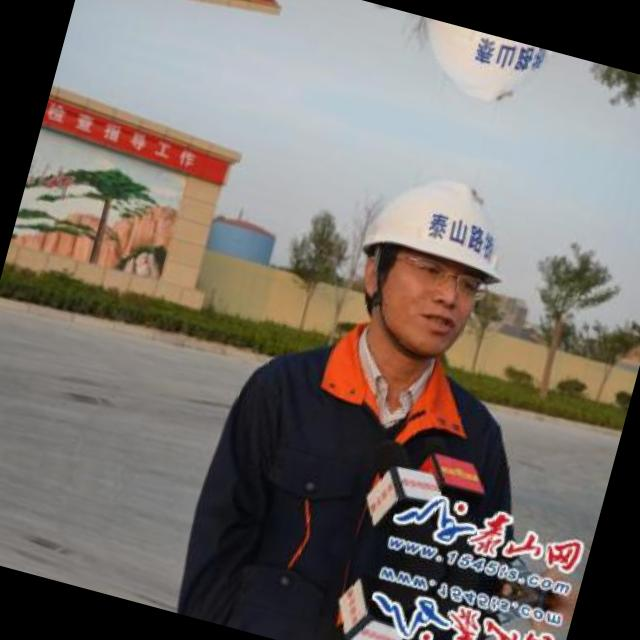helmet: (312, 133, 545, 386), (376, 10, 580, 144)
